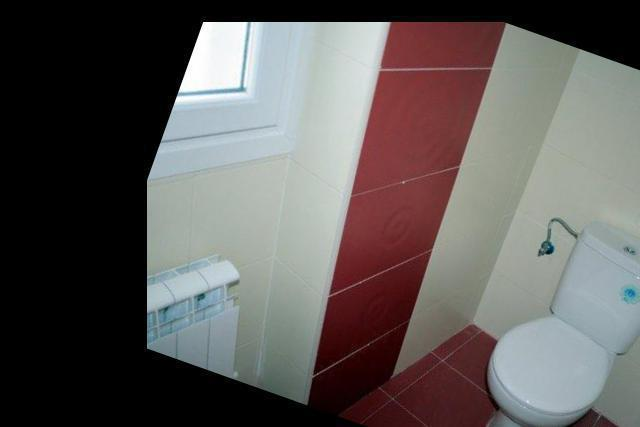Sanitario: (459, 202, 640, 427)
